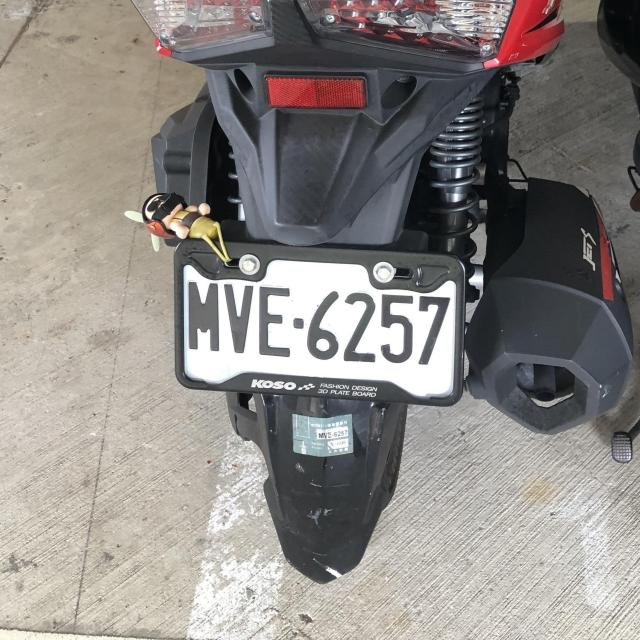W: (169, 250, 465, 394)
